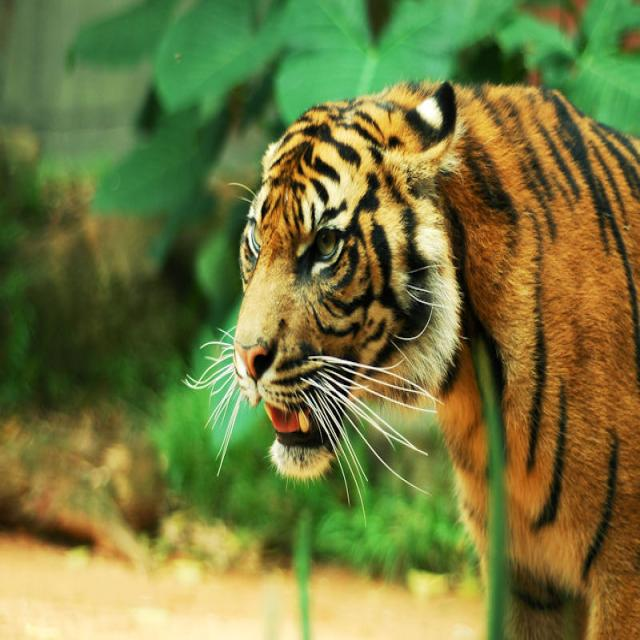Tiger: (192, 57, 639, 611)
